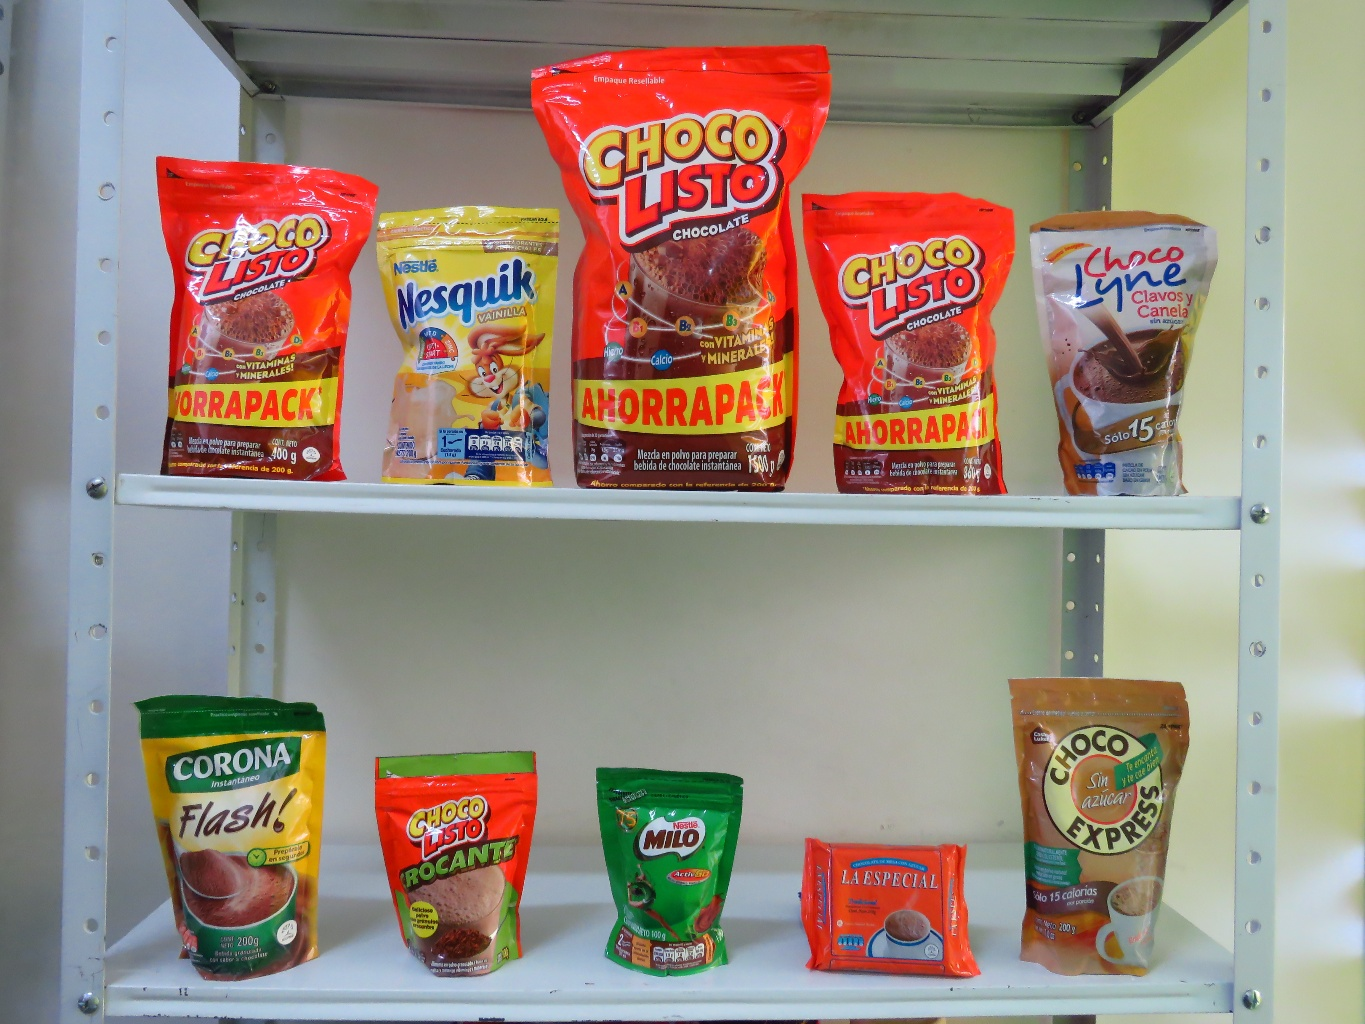COL0170102DYP10000: (375, 753, 539, 979)
COL0170103DYP1,500: (529, 41, 824, 494)
COL0170103DYP36000: (800, 193, 1016, 503)
COL0170103DYP40000: (157, 154, 375, 481)
COL0170203DYP10000: (594, 769, 743, 980)
COL0170306DYP20000: (379, 208, 563, 490)
